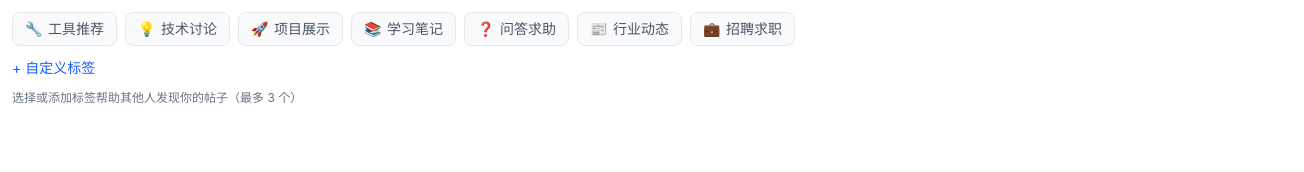
Scenario: TagSelector › 自定义标签输入 › 点击取消按钮隐藏输入框
Click the button "+ 自定义标签" at [54, 68], box x1=12 y1=58 x2=95 y2=78
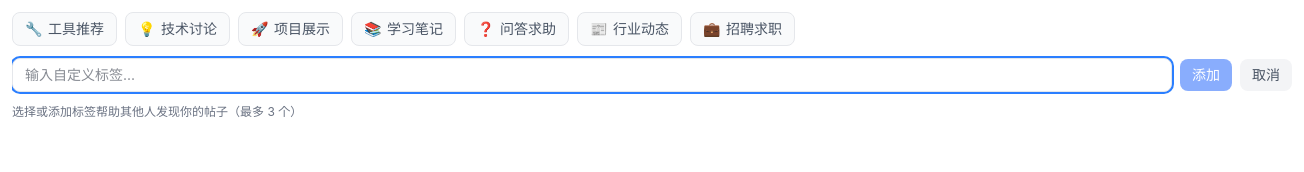
Click the button "取消" at [1266, 75], box x1=1240 y1=59 x2=1292 y2=91
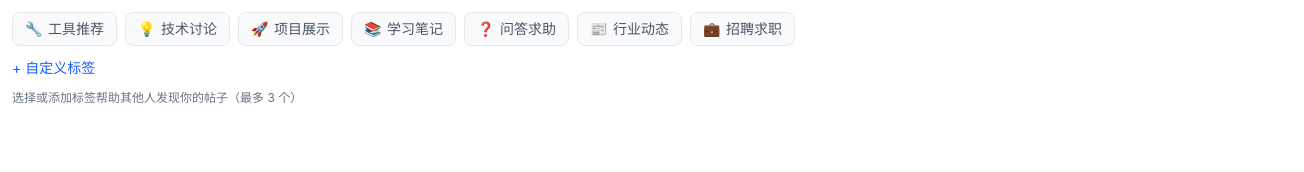
Expected: the field with placeholder "输入自定义标签..." is gone
Expected: the button "+ 自定义标签" is shown, x1=12 y1=58 x2=95 y2=78
